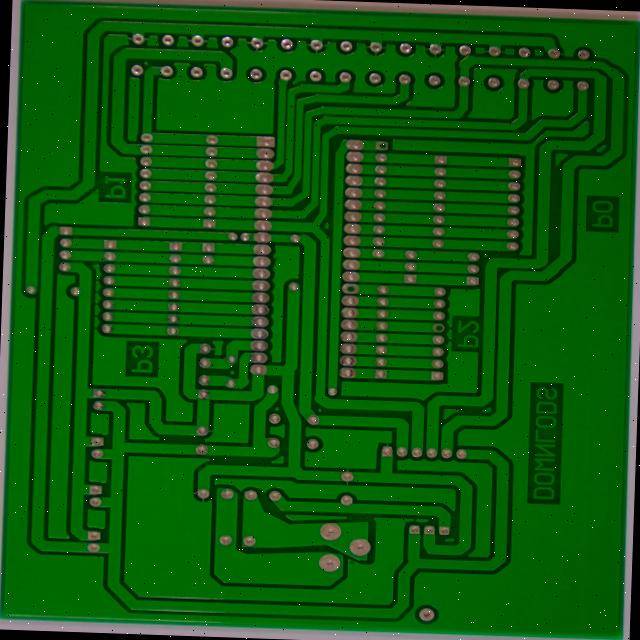missing_hole: (339, 282, 358, 295), (372, 137, 387, 153), (430, 320, 445, 335)
